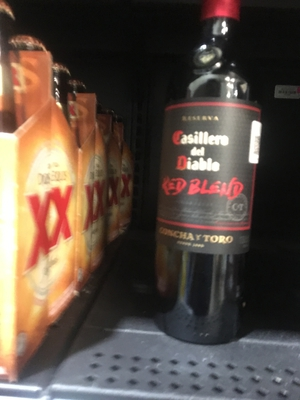casillero del diablo red blend: (144, 10, 289, 341)
